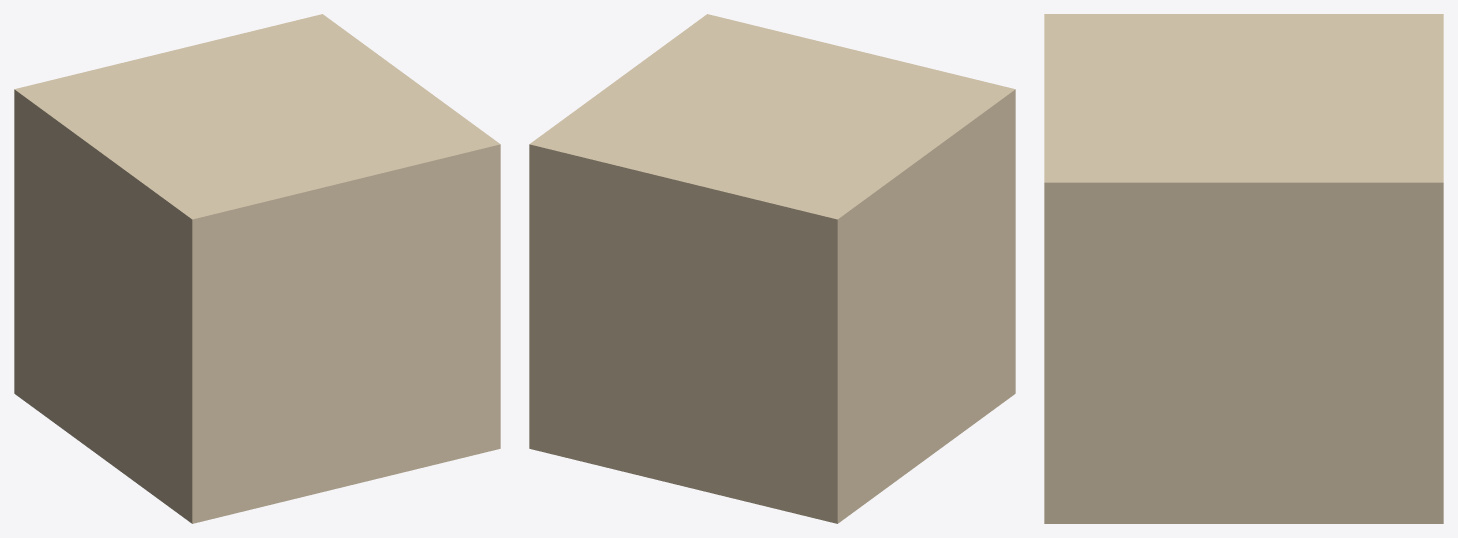
The model's file is PalletLoad.fbx.
The picture shows the model from 3 angles, left to right: view 1: azimuth 30°, elevation 25°; view 2: azimuth 150°, elevation 25°; view 3: azimuth 270°, elevation 25°; orthographic projection. The views are drawn at different scales.
Visible parts, largest first — view 1: Load; view 2: Load; view 3: Load.
Part boxes in pixels (box(x1,y1,x2,y2)): Load: box(14, 14, 500, 523); Load: box(529, 14, 1015, 523); Load: box(1044, 14, 1443, 523).
Bounding box in the file's own units: 1.06 × 1 × 1.06.
